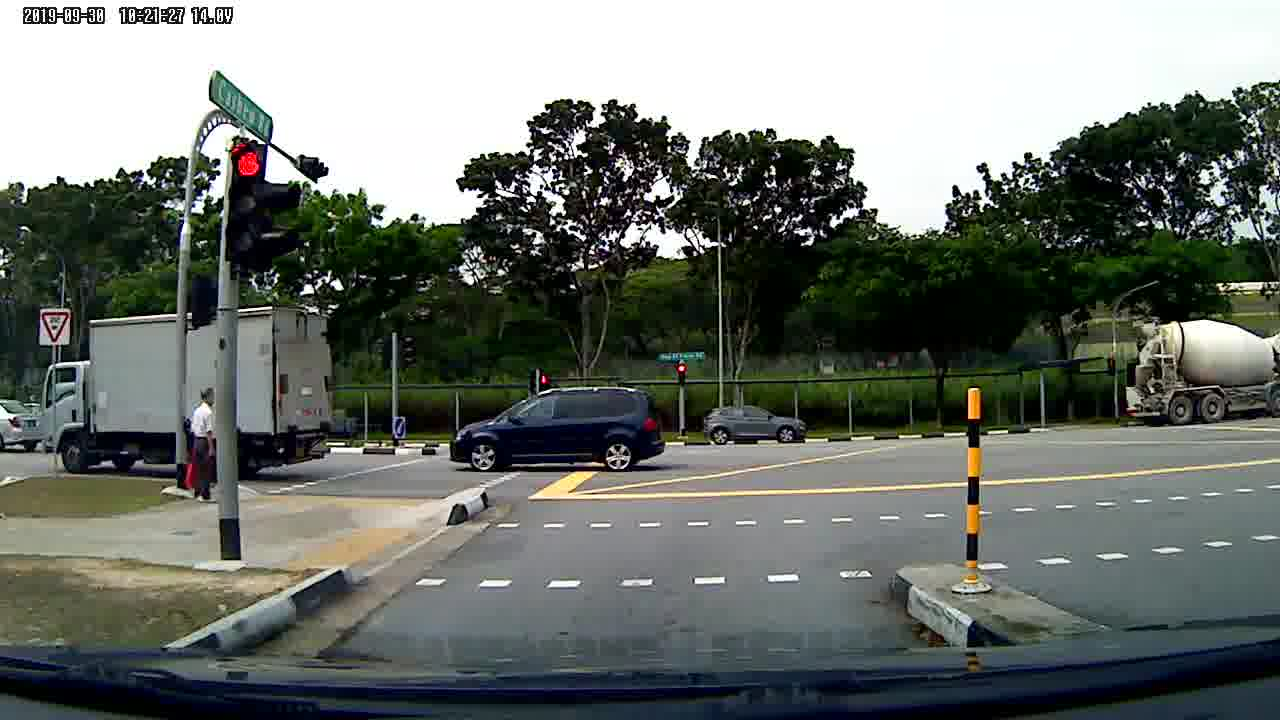car: (453, 386, 664, 472), (700, 405, 811, 448)
